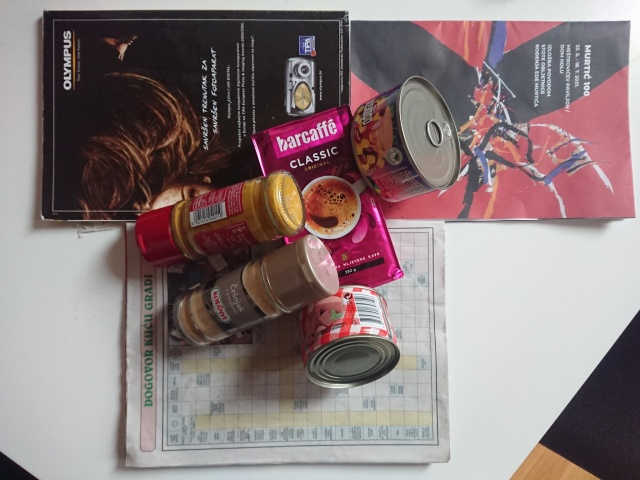Barcaffe Classic Original 225g: (247, 102, 406, 310)
Giana Tuna Salad Mexico 185g: (347, 73, 463, 205)
Kotanyi Curry Spices Mix 70g: (132, 168, 309, 270)
Kotanyi Garlic Granules 70g: (169, 232, 342, 350)
Podravka Luncheon Meat 150g: (293, 282, 404, 392)
